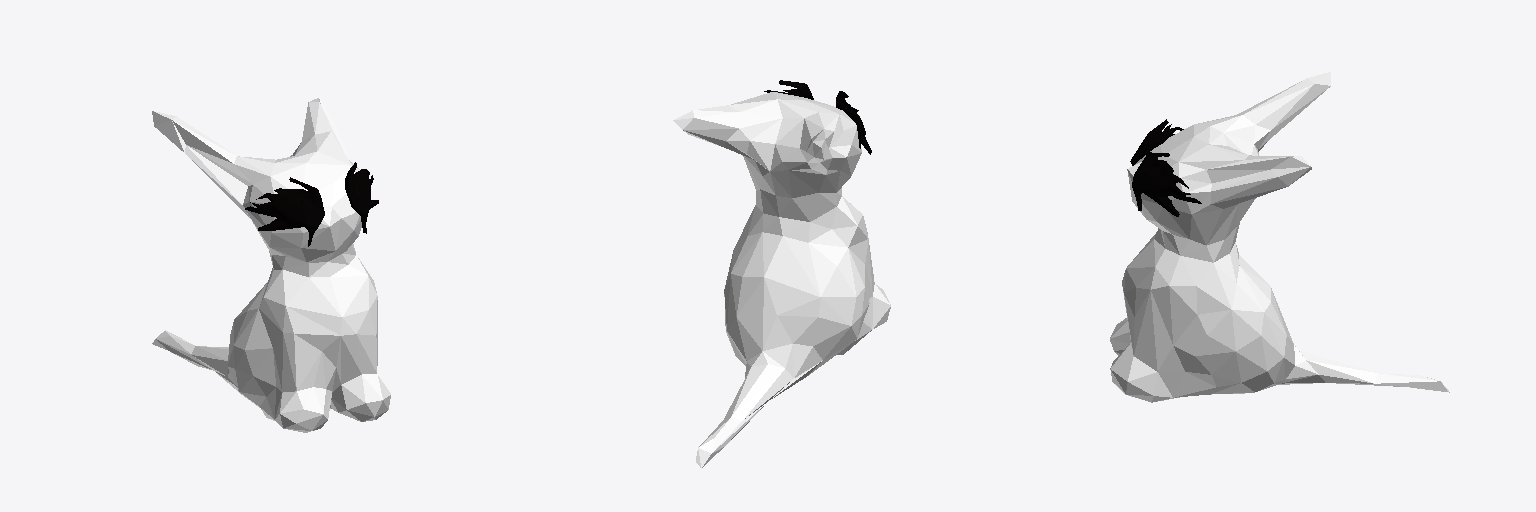
The model's file is Iro.OBJ.
3 views of the same model, side by side, from view 1: azimuth 30°, elevation 25°; view 2: azimuth 150°, elevation 25°; view 3: azimuth 270°, elevation 25° (orthographic).
Visible parts, largest first — view 1: Iro:Group16181; view 2: Iro:Group16181; view 3: Iro:Group16181.
Part boxes in pixels (left/top/right/bottom): Iro:Group16181: left=152, top=98, right=390, bottom=432; Iro:Group16181: left=673, top=80, right=890, bottom=468; Iro:Group16181: left=1110, top=72, right=1449, bottom=402.
Bounding box in the file's own units: 6.19 × 10.94 × 11.59.